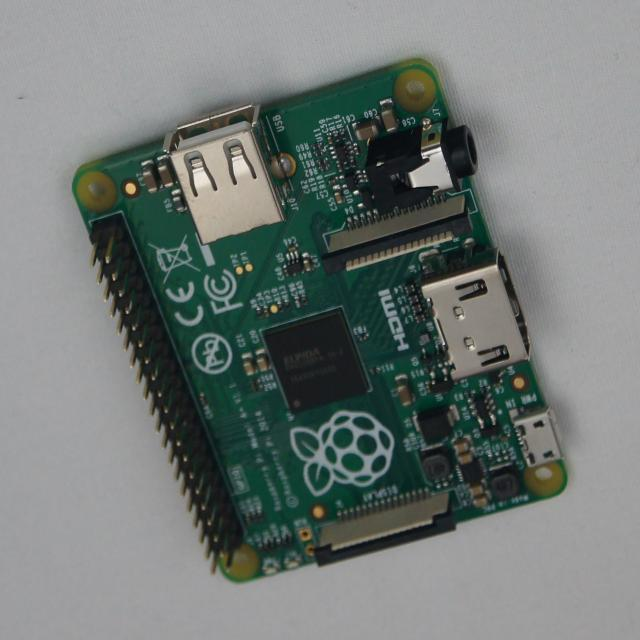Raspberry-Pi-1-A-: (74, 59, 568, 582)
